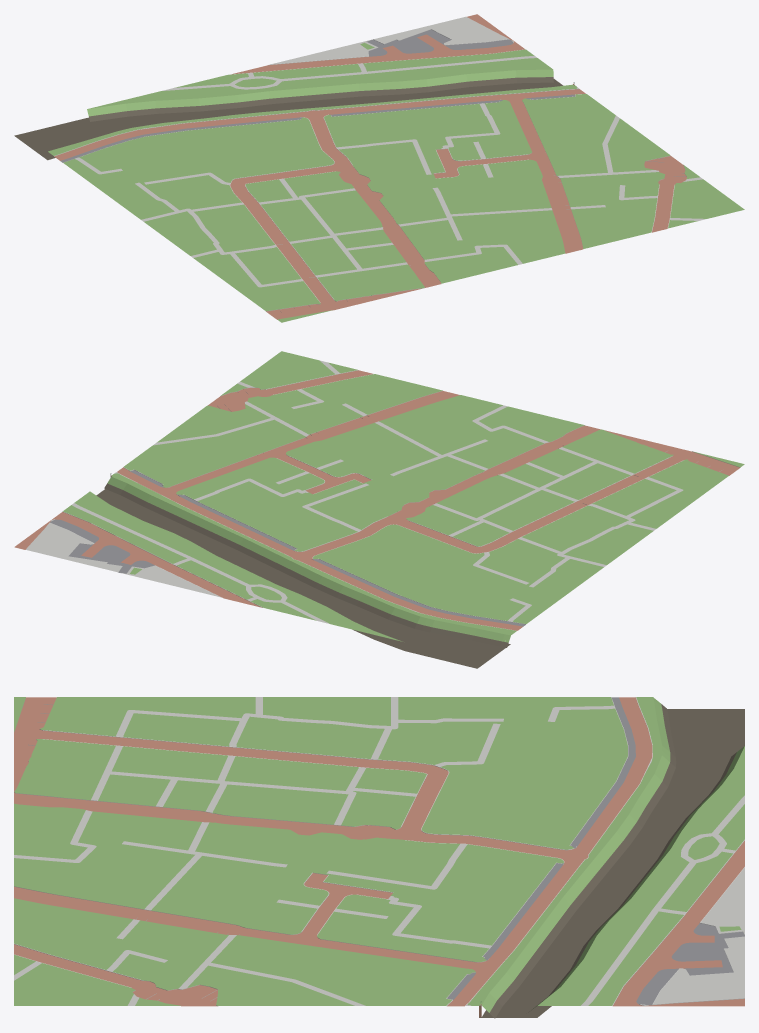
The model's file is ground_9_12.glb.
3 renders of one model, top to bottom at view 1: azimuth 30°, elevation 25°; view 2: azimuth 150°, elevation 25°; view 3: azimuth 270°, elevation 25°, orthographic. The views are drawn at different scales.
Visible parts, largest first — view 1: ground_9_12; view 2: ground_9_12; view 3: ground_9_12.
Part boxes in pixels (x1=…): ground_9_12: x1=14, y1=14, x2=744, y2=322; ground_9_12: x1=14, y1=351, x2=744, y2=668; ground_9_12: x1=14, y1=697, x2=744, y2=1018.
Bounding box in the file's own units: 201 × 4.79 × 200.
